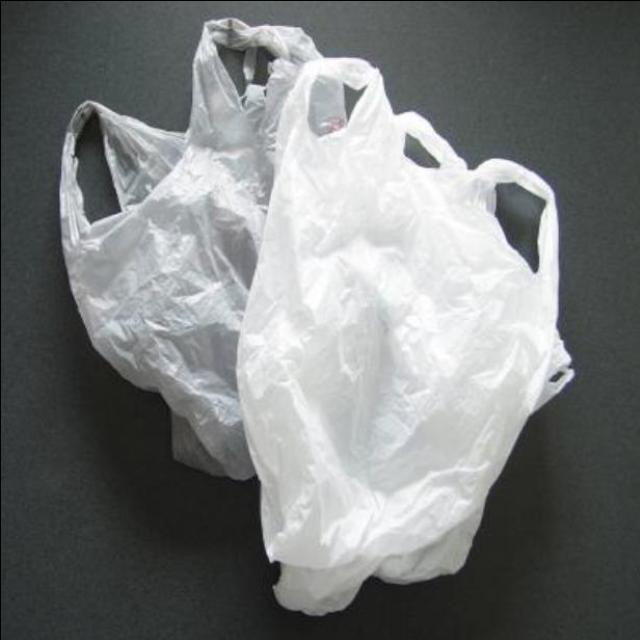plastik: (237, 58, 571, 613), (59, 18, 319, 479)
